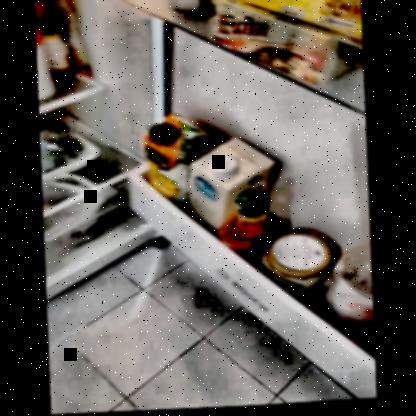milk: (190, 139, 260, 223)
